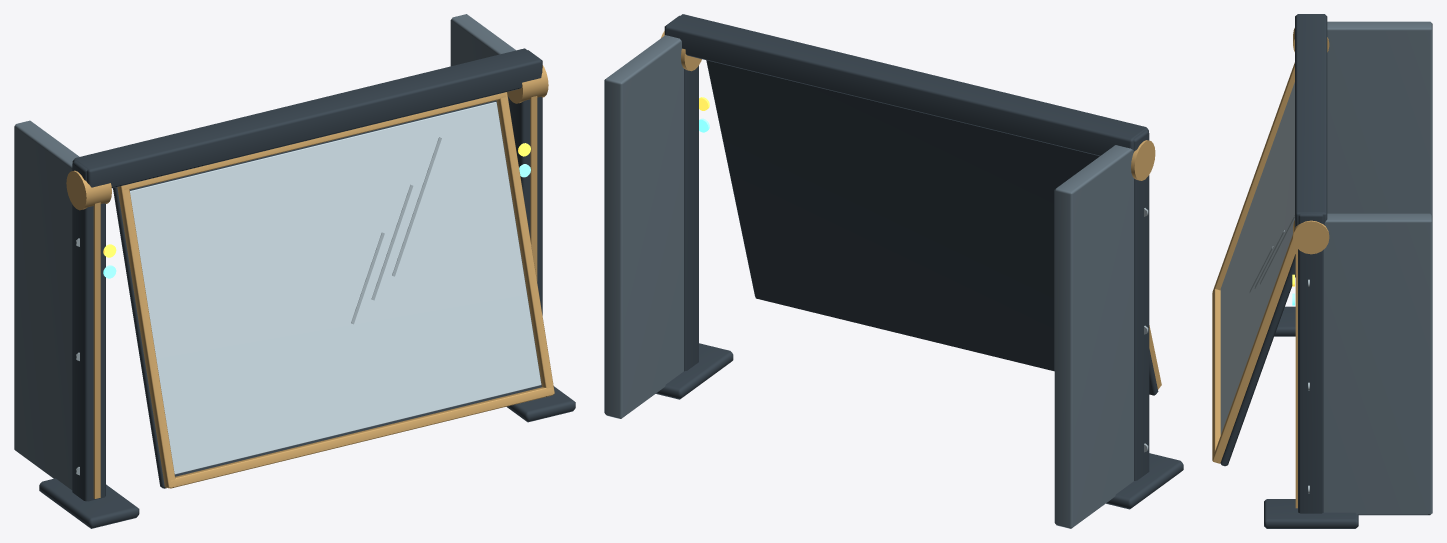
Rendered from nyanisyarud-camera-mirrorbox.glb.
3 renders of one model, left to right at view 1: azimuth 30°, elevation 25°; view 2: azimuth 150°, elevation 25°; view 3: azimuth 270°, elevation 25°, orthographic. The views are drawn at different scales.
Parts seen in each view (by area): view 1: MirrorSurface, mirrorbox_case, mirrorbox_edge, MirrorPivot_brass, mirrorbox_brass, MirrorBacking, MirrorPivot_steel; view 2: MirrorBacking, mirrorbox_edge, mirrorbox_case, mirrorbox_brass; view 3: mirrorbox_edge, mirrorbox_case, MirrorSurface, MirrorPivot_brass, mirrorbox_brass, MirrorBacking, MirrorPivot_steel.
Boxes of the visible parts, x1=… form: MirrorSurface: x1=130, y1=102, x2=541, y2=474; mirrorbox_case: x1=39, y1=48, x2=575, y2=528; mirrorbox_edge: x1=14, y1=14, x2=515, y2=489; MirrorPivot_brass: x1=117, y1=92, x2=554, y2=488; mirrorbox_brass: x1=66, y1=65, x2=548, y2=498; MirrorBacking: x1=113, y1=100, x2=541, y2=488; MirrorPivot_steel: x1=351, y1=137, x2=441, y2=324; MirrorBacking: x1=706, y1=60, x2=1158, y2=395; mirrorbox_edge: x1=604, y1=35, x2=1133, y2=528; mirrorbox_case: x1=656, y1=14, x2=1183, y2=509; mirrorbox_brass: x1=661, y1=31, x2=1155, y2=180; mirrorbox_edge: x1=1323, y1=21, x2=1432, y2=515; mirrorbox_case: x1=1264, y1=14, x2=1358, y2=528; MirrorSurface: x1=1220, y1=82, x2=1294, y2=434; MirrorPivot_brass: x1=1212, y1=62, x2=1295, y2=463; mirrorbox_brass: x1=1293, y1=28, x2=1329, y2=508; MirrorBacking: x1=1220, y1=254, x2=1295, y2=466; MirrorPivot_steel: x1=1249, y1=215, x2=1294, y2=292.
Bounding box in the file's own units: 13.4 × 9.03 × 5.81.
